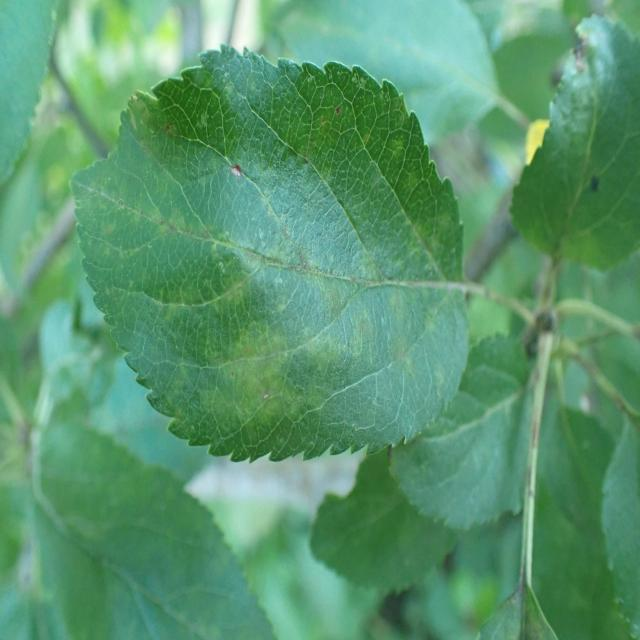scab: (122, 85, 460, 428)
